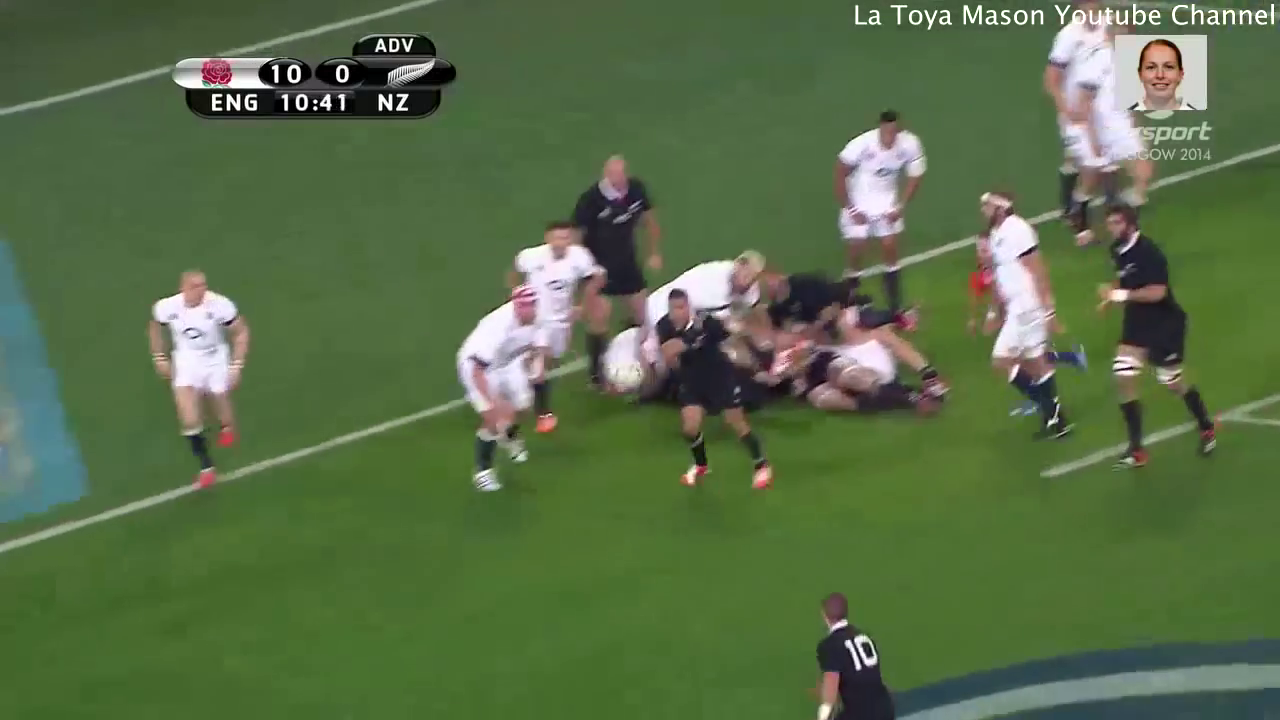ball: (599, 351, 655, 395)
player: (1084, 201, 1233, 488), (966, 182, 1079, 457), (642, 284, 787, 498), (559, 152, 666, 407), (140, 266, 254, 502), (501, 212, 611, 444), (827, 101, 935, 336), (446, 285, 544, 500), (755, 327, 958, 426), (1038, 1, 1117, 230), (622, 228, 766, 352), (792, 584, 903, 720), (754, 264, 919, 338)
